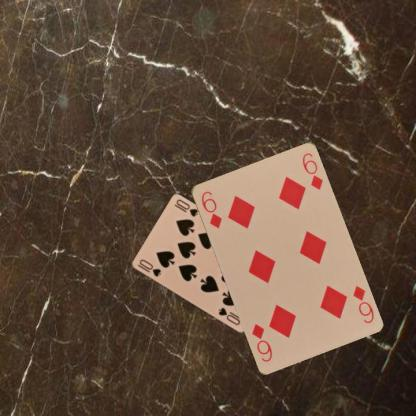10s: (135, 256, 162, 278)
6d: (350, 282, 375, 324), (198, 188, 223, 229)
